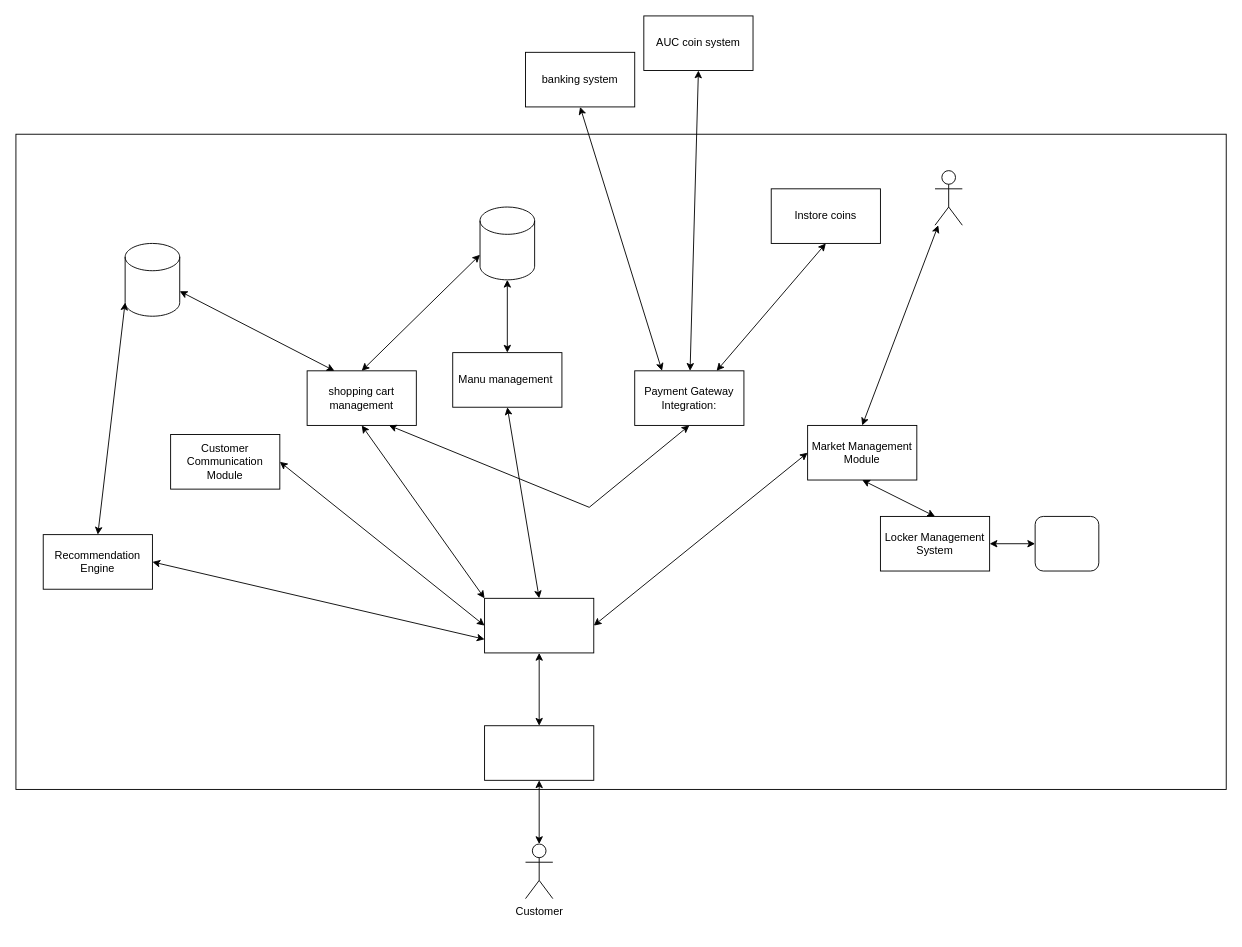
This 1242x947 diagram has some shape labels left out. Each missing label, with the centre of its shape:
"customer order service" goes at (x=152, y=279).
"Market member" goes at (x=948, y=197).
"Order Management system" goes at (x=539, y=625).
"product database" goes at (x=507, y=243).
"QR code generator" goes at (x=1066, y=543).
"User interface" goes at (x=539, y=752).
